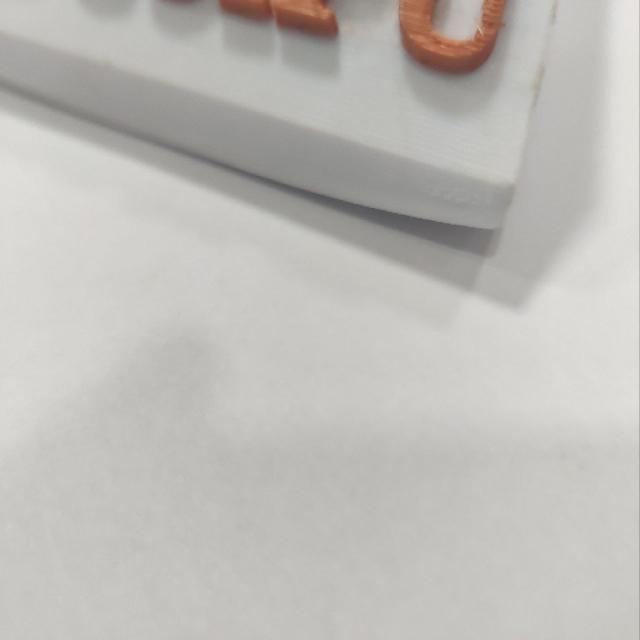Warping: (359, 179, 530, 299)
